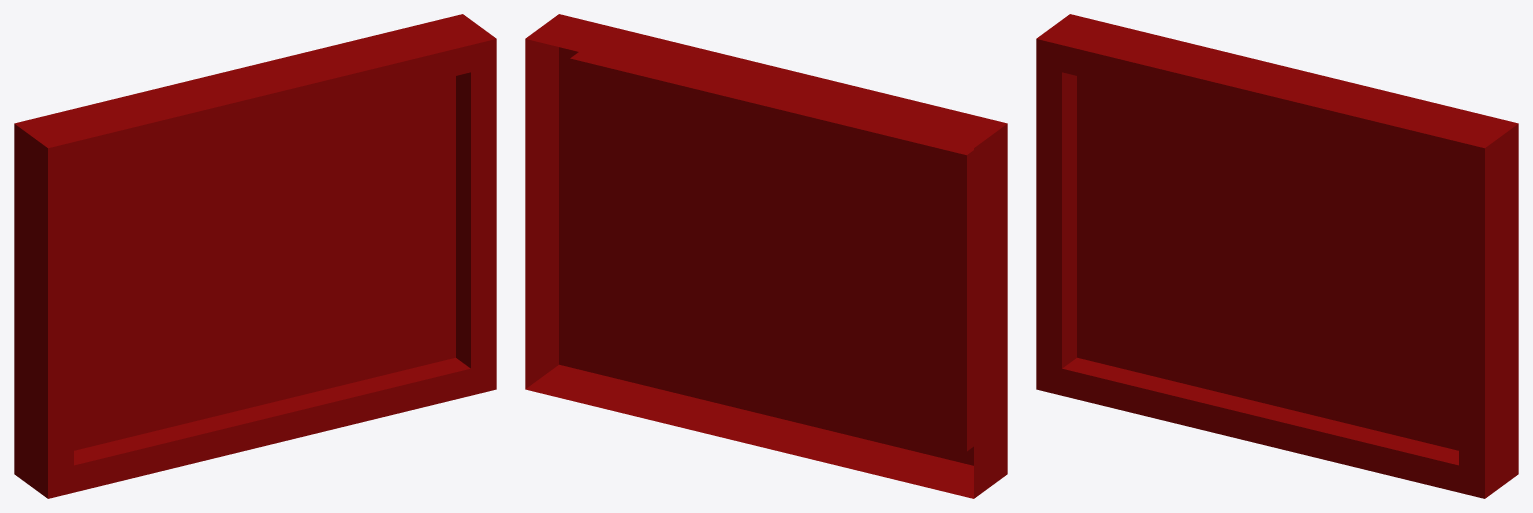
Rendered from DecoMur4.FBX.
3 renders of one model, left to right at view 1: azimuth 30°, elevation 25°; view 2: azimuth 150°, elevation 25°; view 3: azimuth 330°, elevation 25°, orthographic.
Visible parts, largest first — view 1: cadre_C; view 2: cadre_C; view 3: cadre_C.
Part boxes in pixels (<box>): cadre_C: <box>14,14,496,498</box>; cadre_C: <box>525,14,1007,498</box>; cadre_C: <box>1036,14,1518,498</box>.
Bounding box in the file's own units: 0.6697 × 0.0877 × 0.5001.
